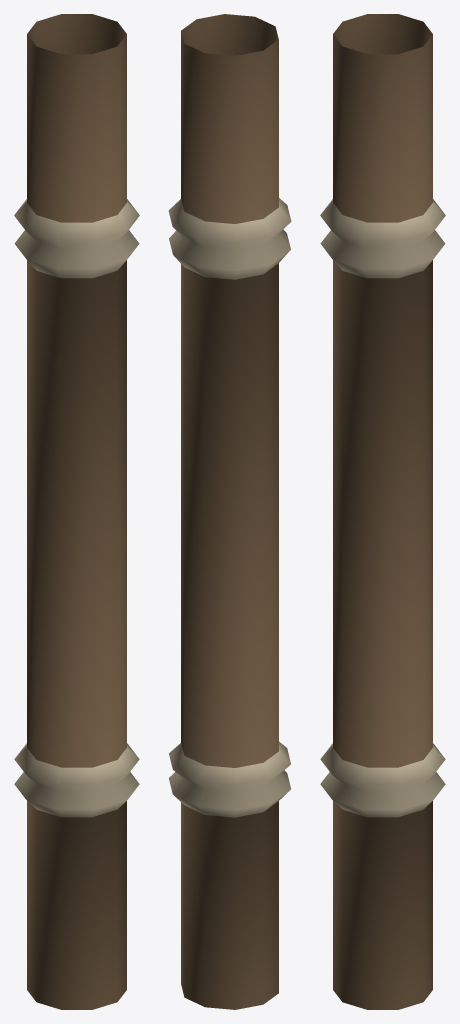
The model's file is rpgpp_ag_support_beam_int_01a_4m.fbx.
The picture shows the model from 3 angles, left to right: view 1: azimuth 90°, elevation 25°; view 2: azimuth 150°, elevation 25°; view 3: azimuth 270°, elevation 25°; orthographic projection.
Visible parts, largest first — view 1: rpgpp_ag_support_beam_int_01a_4m; view 2: rpgpp_ag_support_beam_int_01a_4m; view 3: rpgpp_ag_support_beam_int_01a_4m.
Boxes of the visible parts, left/top/right/bottom form: rpgpp_ag_support_beam_int_01a_4m: left=14, top=14, right=139, bottom=1009; rpgpp_ag_support_beam_int_01a_4m: left=168, top=14, right=291, bottom=1009; rpgpp_ag_support_beam_int_01a_4m: left=320, top=14, right=445, bottom=1009.
Size of the model in its own units: 0.4431 by 3.9 by 0.4659.
